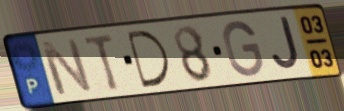8: (172, 23, 214, 84)
D: (123, 28, 173, 90)
G: (221, 19, 265, 79)
J: (270, 15, 303, 74)
N: (36, 36, 96, 98)
T: (81, 31, 123, 93)
